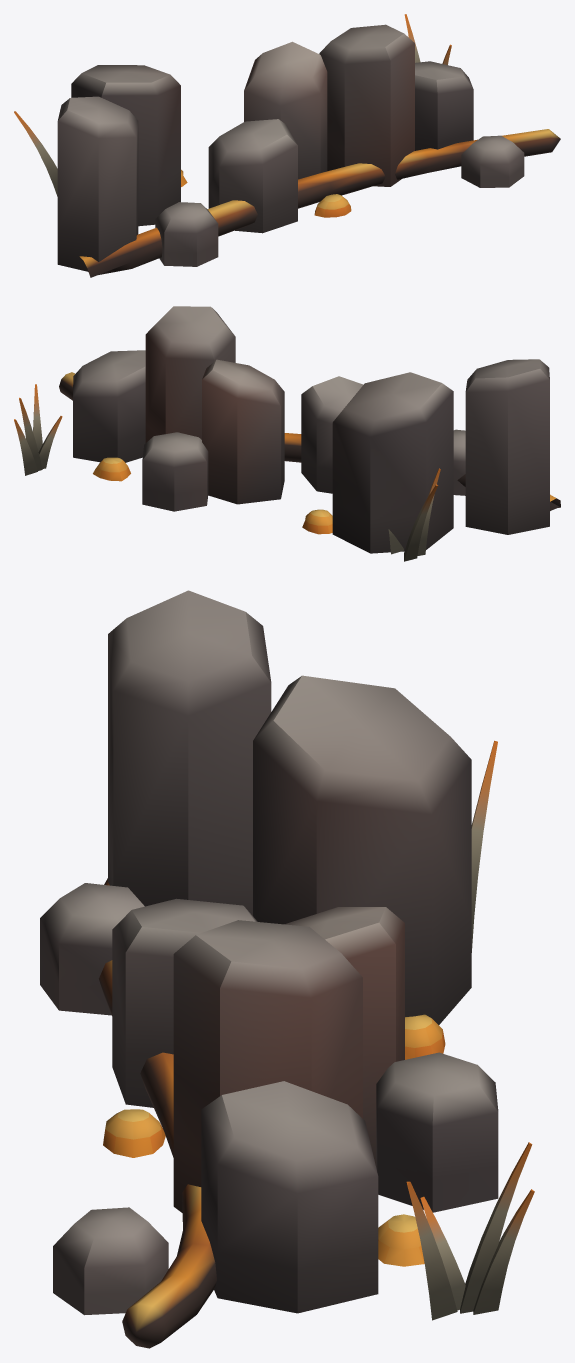
File: EmberLaneEdge.fbx
3 views of the same model, one above another, from view 1: azimuth 30°, elevation 25°; view 2: azimuth 150°, elevation 25°; view 3: azimuth 270°, elevation 25° (orthographic). The views are drawn at different scales.
Parts seen in each view (by area): view 1: EmberLaneEdge; view 2: EmberLaneEdge; view 3: EmberLaneEdge.
Boxes of the visible parts, x1=… form: EmberLaneEdge: x1=14, y1=14, x2=560, y2=277; EmberLaneEdge: x1=14, y1=306, x2=560, y2=561; EmberLaneEdge: x1=40, y1=590, x2=534, y2=1348.
Bounding box in the file's own units: 1.05 × 0.3102 × 0.4572.
